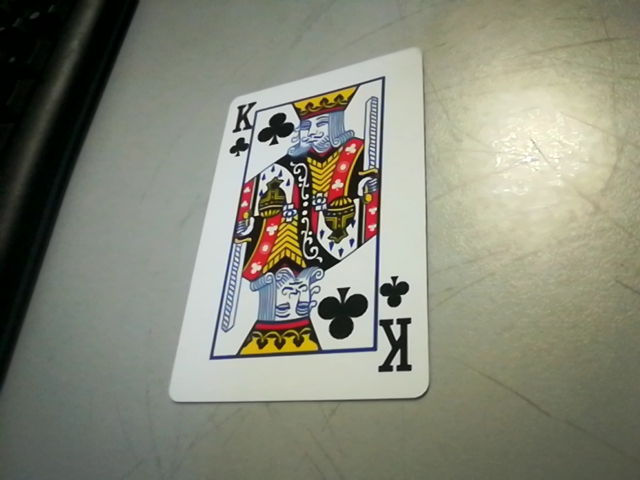mh k: (370, 271, 427, 386), (221, 97, 265, 152)
